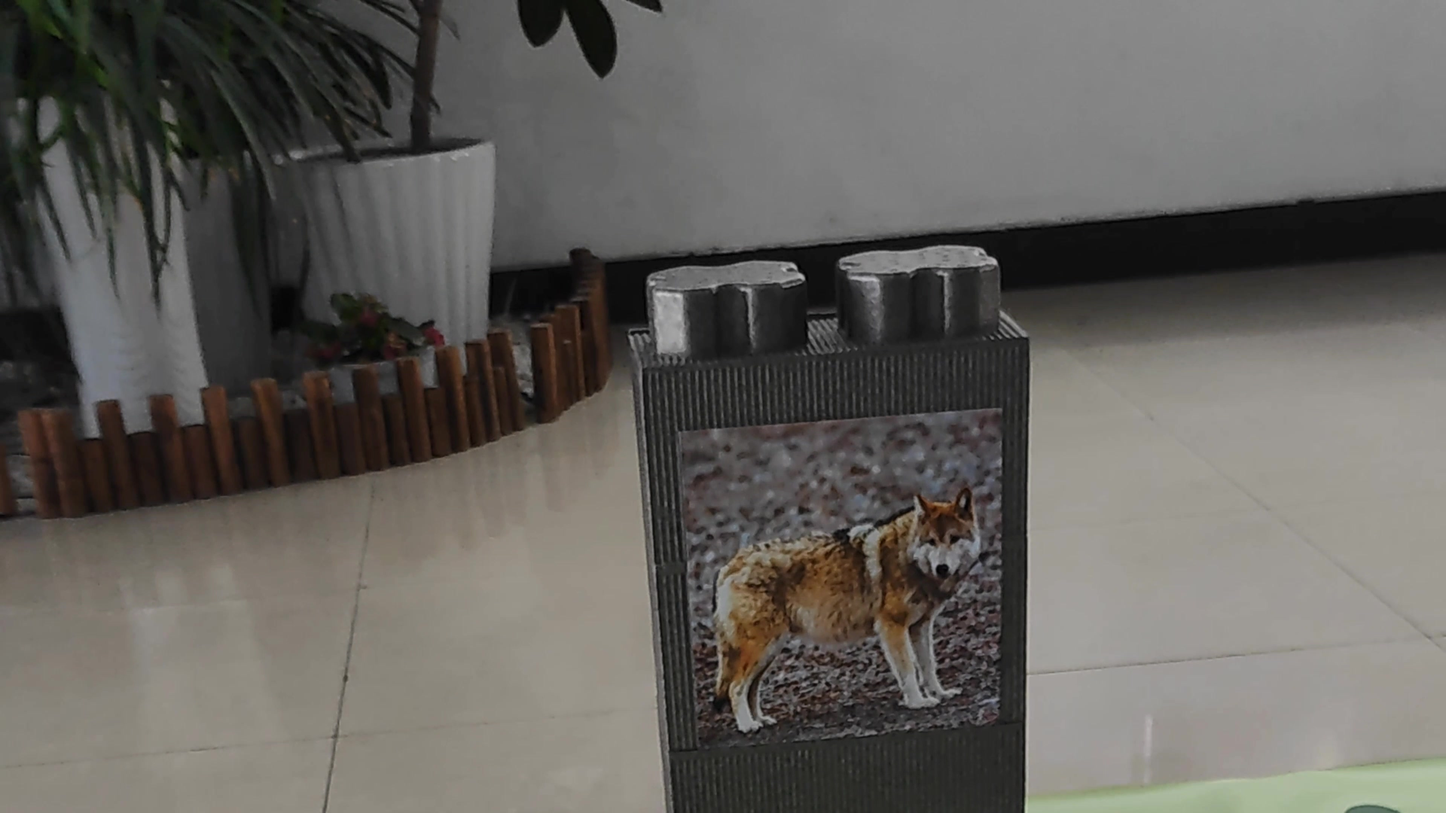wolf: (680, 428, 990, 726)
